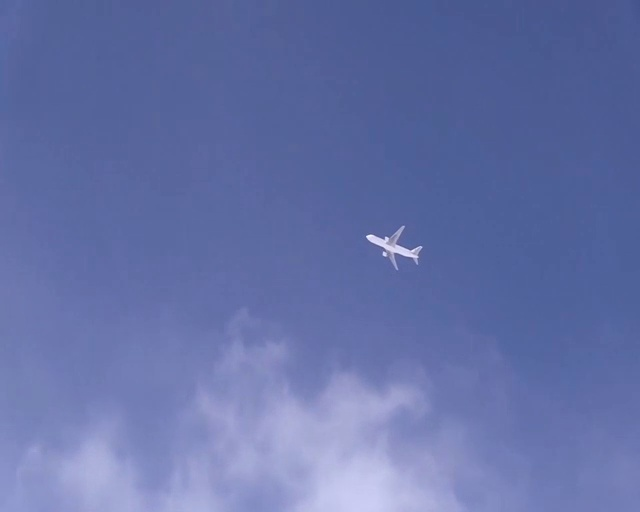AIRPLANE: (364, 223, 423, 270)
